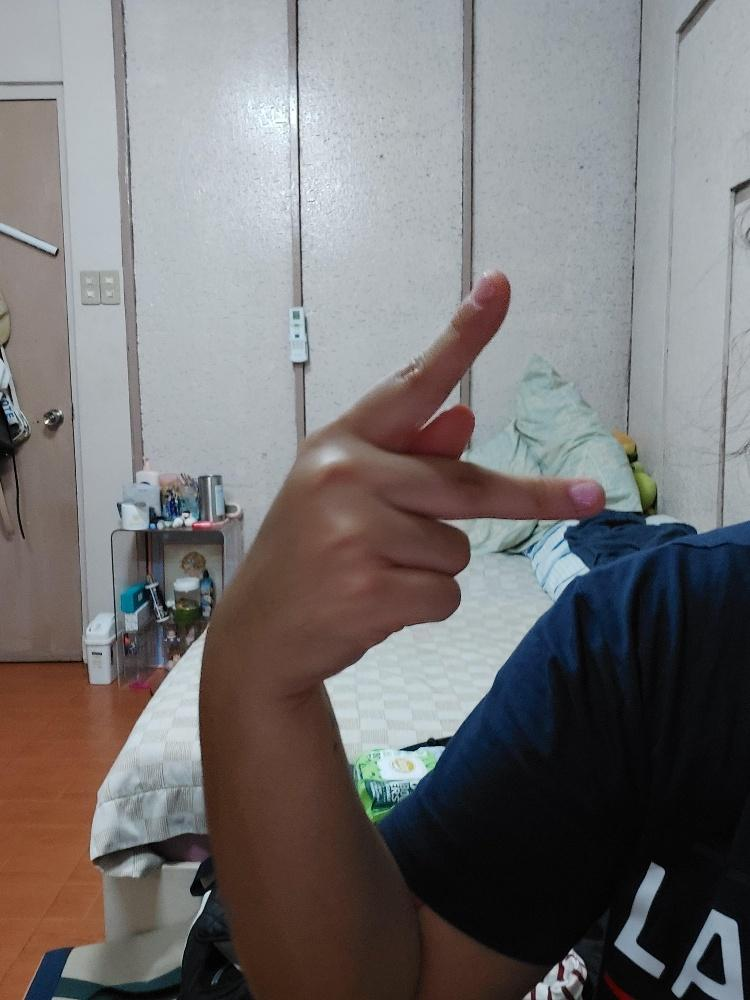k: (206, 267, 606, 680)
